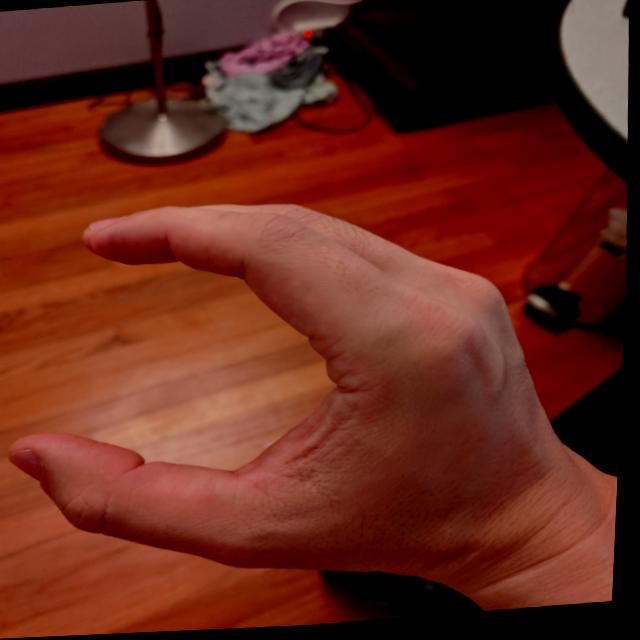C: (0, 174, 591, 624)
